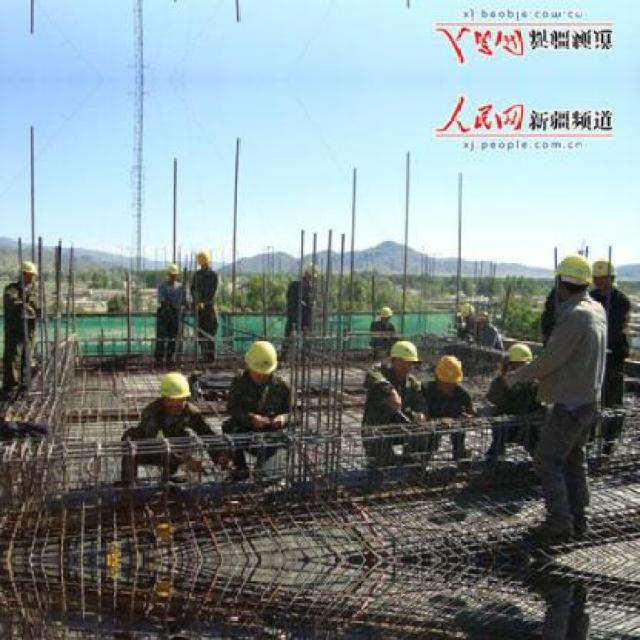helmet: (554, 252, 591, 298), (155, 369, 193, 413), (240, 335, 277, 379), (385, 339, 421, 381), (585, 255, 621, 292), (432, 352, 463, 394), (504, 341, 538, 376), (15, 260, 38, 288), (192, 247, 214, 273), (160, 263, 182, 285), (377, 302, 395, 324), (302, 260, 320, 282), (456, 300, 474, 322)
